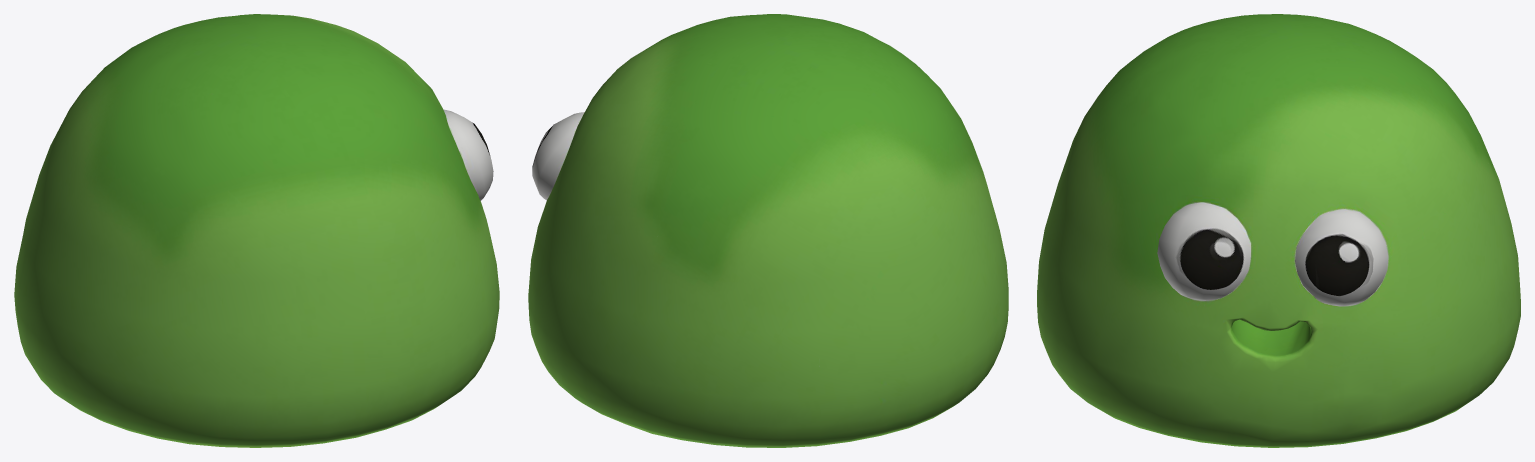
Rendered from 史莱姆2.glb.
The picture shows the model from 3 angles, left to right: view 1: azimuth 30°, elevation 25°; view 2: azimuth 150°, elevation 25°; view 3: azimuth 270°, elevation 25°; orthographic projection.
Visible parts, largest first — view 1: tripo_node_8fd71527-5699-44a1-ac26-af6f1872166f; view 2: tripo_node_8fd71527-5699-44a1-ac26-af6f1872166f; view 3: tripo_node_8fd71527-5699-44a1-ac26-af6f1872166f.
Boxes of the visible parts, <box> form: tripo_node_8fd71527-5699-44a1-ac26-af6f1872166f: <box>14,14,499,447</box>; tripo_node_8fd71527-5699-44a1-ac26-af6f1872166f: <box>528,14,1008,447</box>; tripo_node_8fd71527-5699-44a1-ac26-af6f1872166f: <box>1037,14,1520,447</box>.
Bounding box in the file's own units: 0.998 × 0.7246 × 0.998.
1 material, 1 textured.
